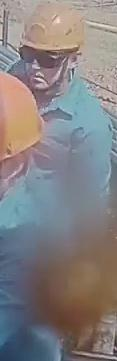goggles: (18, 44, 68, 68)
helmet: (0, 69, 45, 164), (19, 2, 85, 52)
vest: (0, 179, 71, 360), (46, 82, 111, 241)
